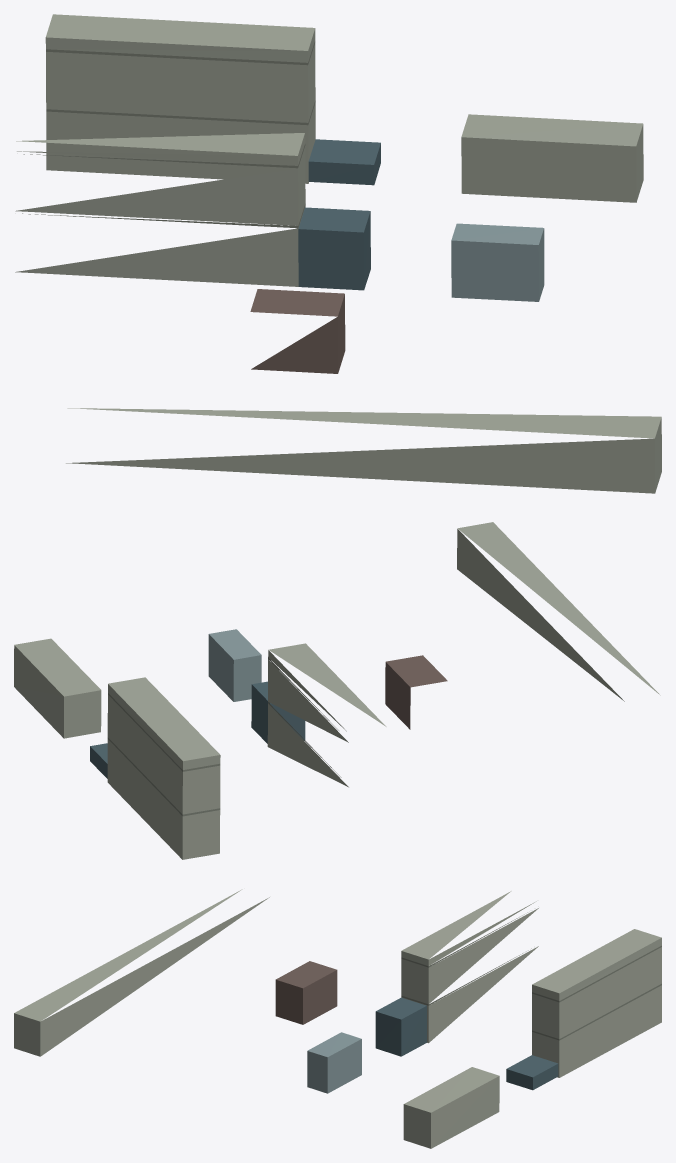
File: terminal-6---131_-19.glb
The picture shows the model from 3 angles, top to bottom: view 1: azimuth 30°, elevation 25°; view 2: azimuth 150°, elevation 25°; view 3: azimuth 270°, elevation 25°; orthographic projection. The views are drawn at different scales.
Visible parts, largest first — view 1: measured-industrial; view 2: measured-industrial; view 3: measured-industrial.
Boxes of the visible parts, x1,y1,x2,y2 form: measured-industrial: (15,14,661,493); measured-industrial: (14,522,660,859); measured-industrial: (14,889,661,1148).
Bounding box in the file's own units: 38 × 6.79 × 46.24.
